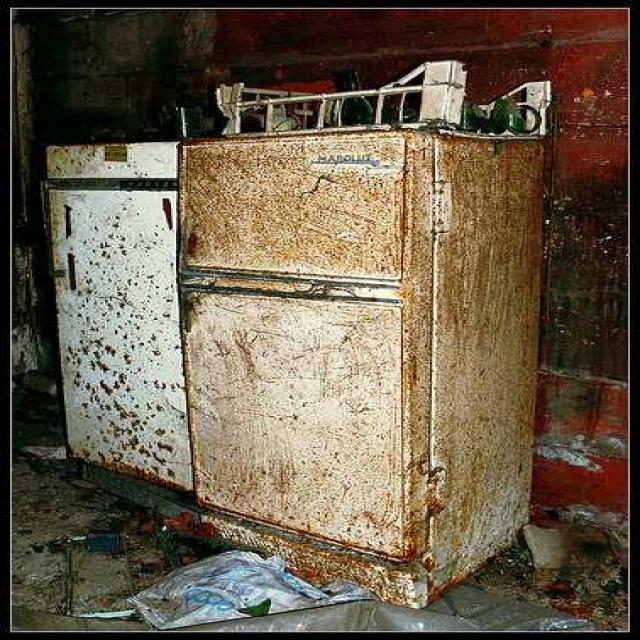refrigerator: (186, 141, 449, 609), (44, 138, 173, 514)
